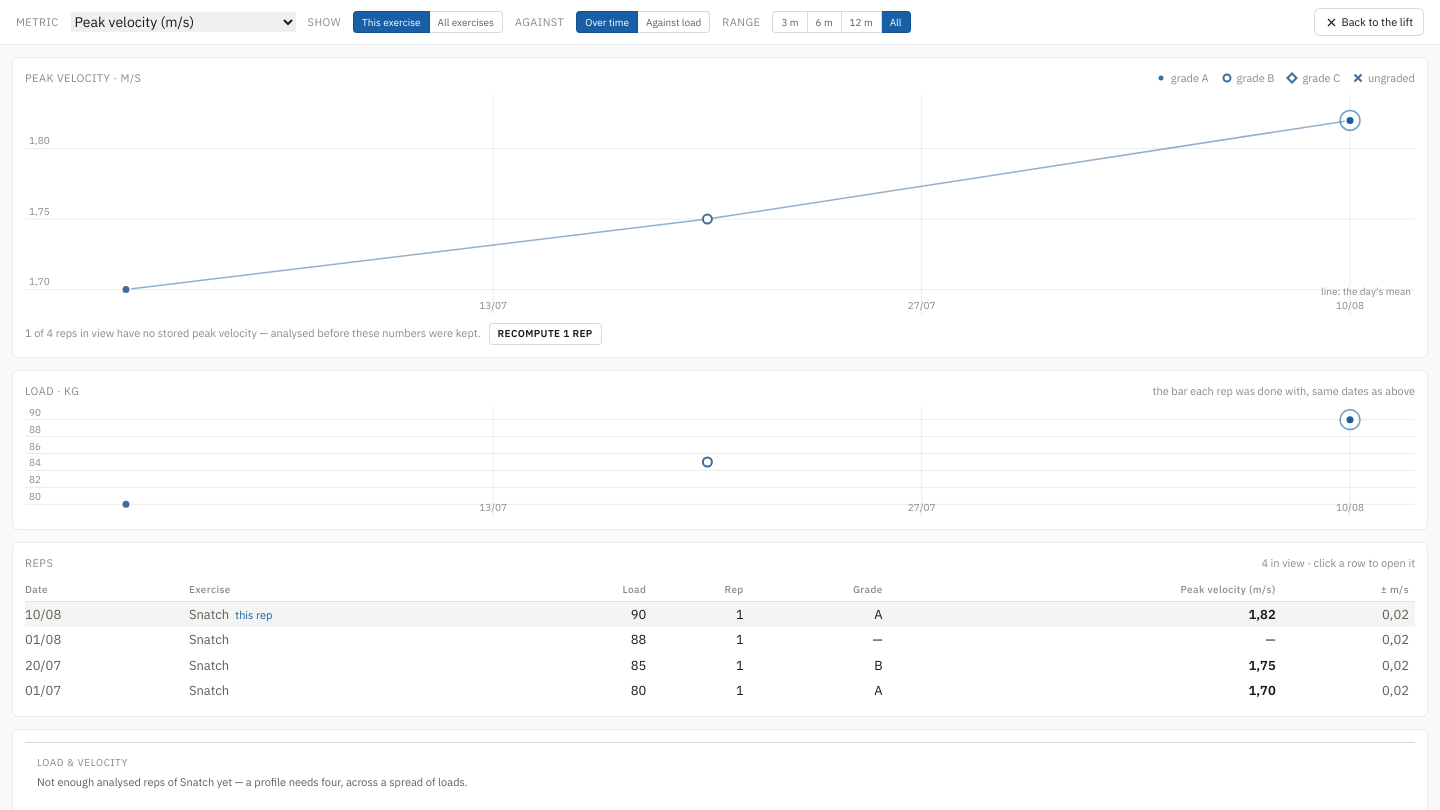
TrendsView › puts the metric against load on request
This screenshot has width=1440, height=810.
Check: the text "PEAK VELOCITY · M/S" is shown, box [25, 70, 141, 86]
Click the button "Against load".
click(674, 22)  # box [638, 11, 710, 33]
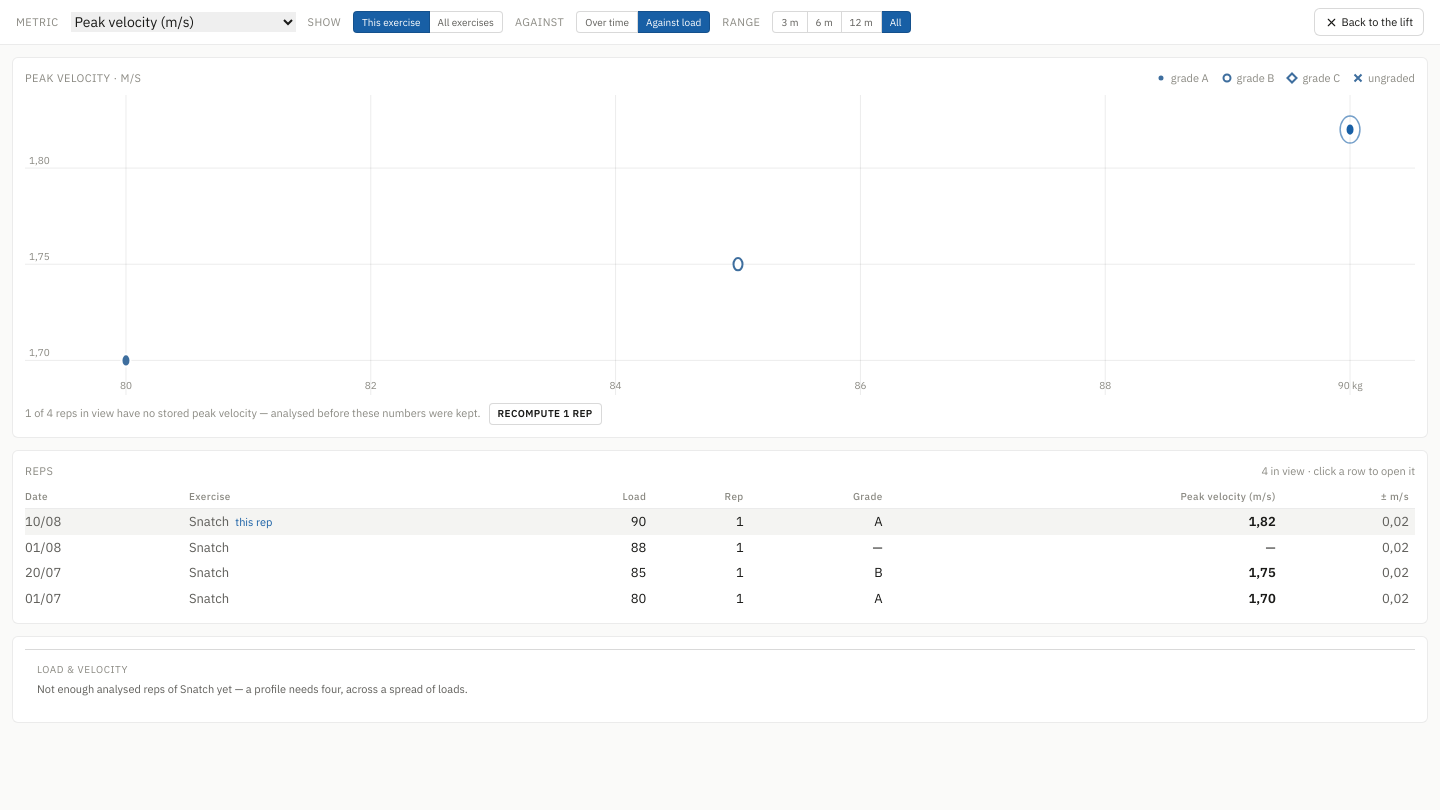
Check: the text "REPS" is shown, box [25, 462, 53, 479]
Check: the text "LOAD · KG" is gone
